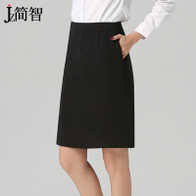F_tailored skirt: (52, 17, 146, 157)
